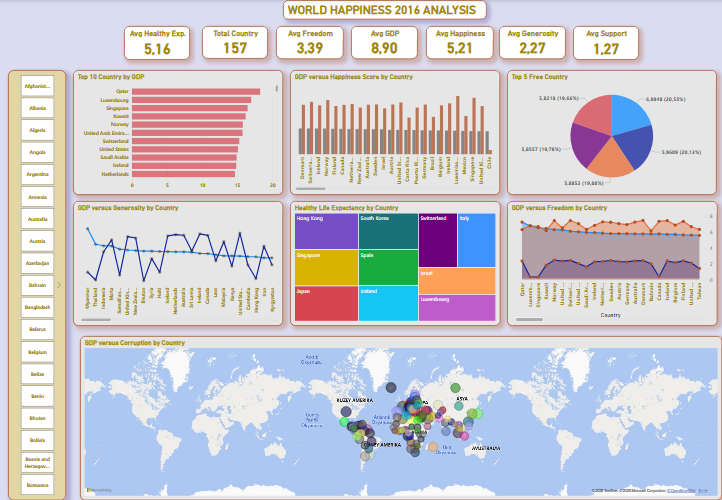

What the dashboard file says about the page in this screenshot:
{"tool":"powerbi","page":{"name":"2016","canvas":[1850,1280],"ordinal":2},"visuals":[{"type":"textbox","title":"WORLD HAPPINESS 2016 ANALYSIS","box":[725,0,521.2,50],"z":0},{"type":"card","title":"Avg GDP","fields":{"Values":["Avg(2016.GDP adj)"]},"box":[897.6,65.9,170.7,85.4],"z":1000},{"type":"card","title":"Total Country ","fields":{"Values":["Count(2016.Country)"]},"box":[517.8,66.7,168.9,84.4],"z":2000},{"type":"card","title":"Avg Freedom","fields":{"Values":["Avg(2016.Freedom adj)"]},"box":[707.3,65.9,173.2,85.4],"z":3000},{"type":"card","title":"Avg Happiness","fields":{"Values":["Avg(2016.Happiness adj)"]},"box":[1090.2,65.9,173.2,85.4],"z":4000},{"type":"card","title":"Avg Generosity","fields":{"Values":["Avg(2016.Generosity adj)"]},"box":[1278,65.9,170.7,85.4],"z":5000},{"type":"slicer","fields":{"Values":["2016.Country"]},"box":[19.6,178.4,149,1102],"z":6000},{"type":"barChart","title":"Top 10 Country by GDP ","fields":{"Category":["2016.Country"],"Y":["Avg(2016.GDP adj)"]},"box":[186.9,178.7,537.7,319.7],"z":7000},{"type":"lineClusteredColumnComboChart","title":"GDP versus Happiness Score by Country","fields":{"Y":["Avg(2016.Happiness adj)","Avg(2016.GDP adj)"],"Category":["2016.Country"]},"box":[742.6,178.7,537.7,319.7],"z":8000},{"type":"lineChart","title":"GDP versus Generosity by Country","fields":{"Category":["2016.Country"],"Y":["Sum(2016.Generosity adj)"],"Y2":["Sum(2016.GDP adj)"]},"box":[186.9,514.8,537.7,319.7],"z":9000},{"type":"treemap","title":"Healthy Life Expectancy by Country","fields":{"Group":["2016.Country"],"Values":["Avg(2016.Health adj)"]},"box":[741.5,514.6,539,319.5],"z":10000},{"type":"pieChart","title":"Top 5 Free Country","fields":{"Category":["2016.Country"],"Y":["Sum(2016.Freedom adj)"]},"box":[1297.6,178,536.6,319.5],"z":11000},{"type":"areaChart","title":"GDP versus Freedom by Country","fields":{"Category":["2016.Country"],"Y":["Avg(2016.GDP adj)","Avg(2016.Freedom adj)"],"Y2":["Avg(2016.Happiness adj)"]},"box":[1297.6,514.6,539,319.5],"z":12000},{"type":"map","title":"GDP versus Corruption by Country","fields":{"Category":["2016.Country","2016.Region"],"Size":["Avg(2016.GDP adj)"],"Series":["2016.Trust adj"]},"box":[205.8,859.6,1644.2,421.2],"z":13000},{"type":"card","title":"Avg Support","fields":{"Values":["Avg(2016.Trust adj)"]},"box":[1466.7,66.7,168.9,86.7],"z":14000},{"type":"card","title":"Avg Healthy Exp.","fields":{"Values":["Avg(2016.Health adj)"]},"box":[317.8,66.7,168.9,86.7],"z":15000}]}

Visuals, with their boxes in screenshot pixels (x1, y1, x2, y2), scaled from the page's 1850x1280 canvas onto the 722x500 screenshot:
"WORLD HAPPINESS 2016 ANALYSIS" textbox: detection(283, 0, 486, 20)
"Avg GDP" card: detection(350, 26, 417, 59)
"Total Country " card: detection(202, 26, 268, 59)
"Avg Freedom" card: detection(276, 26, 344, 59)
"Avg Happiness" card: detection(425, 26, 493, 59)
"Avg Generosity" card: detection(499, 26, 565, 59)
slicer - 2016.Country: detection(8, 70, 66, 499)
"Top 10 Country by GDP " barChart: detection(73, 70, 283, 195)
"GDP versus Happiness Score by Country" lineClusteredColumnComboChart: detection(290, 70, 500, 195)
"GDP versus Generosity by Country" lineChart: detection(73, 201, 283, 326)
"Healthy Life Expectancy by Country" treemap: detection(289, 201, 500, 326)
"Top 5 Free Country" pieChart: detection(506, 70, 716, 194)
"GDP versus Freedom by Country" areaChart: detection(506, 201, 717, 326)
"GDP versus Corruption by Country" map: detection(80, 336, 721, 499)
"Avg Support" card: detection(572, 26, 638, 60)
"Avg Healthy Exp." card: detection(124, 26, 190, 60)
